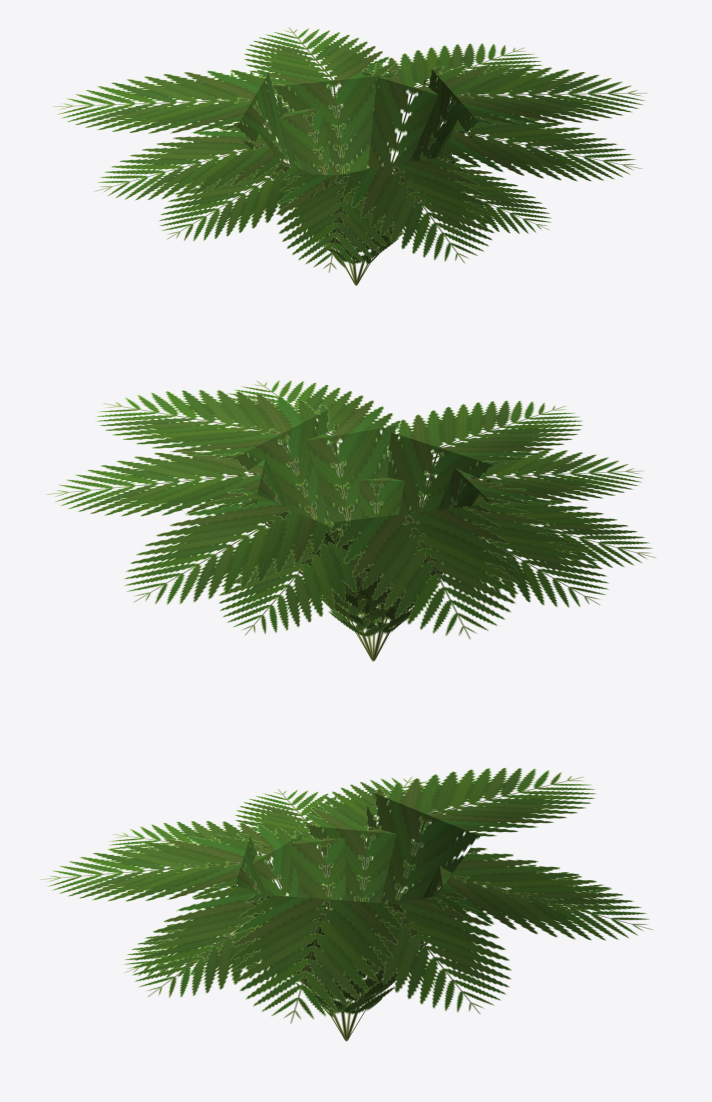
The model's file is fern.glb.
The picture shows the model from 3 angles, top to bottom: view 1: azimuth 30°, elevation 25°; view 2: azimuth 150°, elevation 25°; view 3: azimuth 270°, elevation 25°; orthographic projection. The views are drawn at different scales.
Parts seen in each view (by area): view 1: fern_LOD0; view 2: fern_LOD0; view 3: fern_LOD0.
Boxes of the visible parts, left/top/right/bottom form: fern_LOD0: left=53, top=27, right=647, bottom=285; fern_LOD0: left=46, top=380, right=655, bottom=661; fern_LOD0: left=40, top=767, right=652, bottom=1041.
Size of what is drawn, in the model's own units: 1.52 by 0.4555 by 1.47.
Materials: 1 (1 with a texture image).
